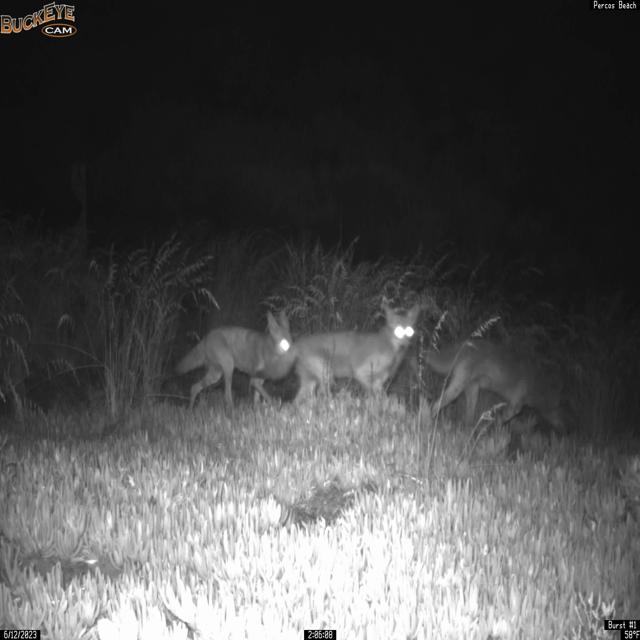coyote: (173, 308, 297, 413)
